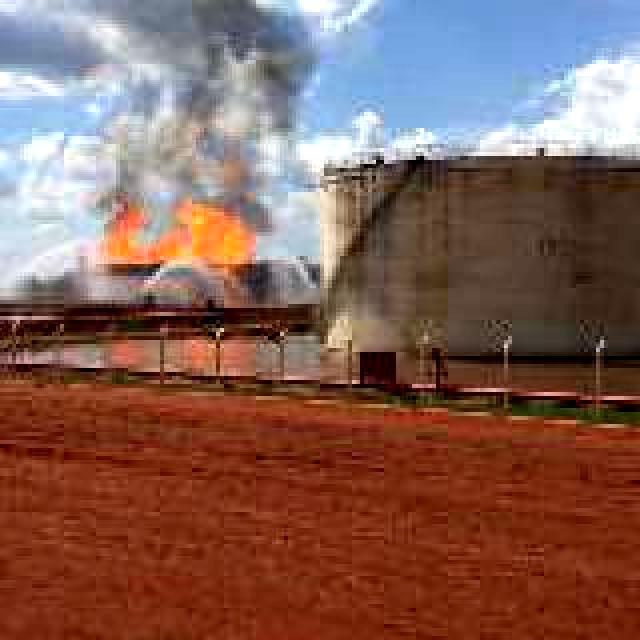smoke: (100, 0, 314, 214)
